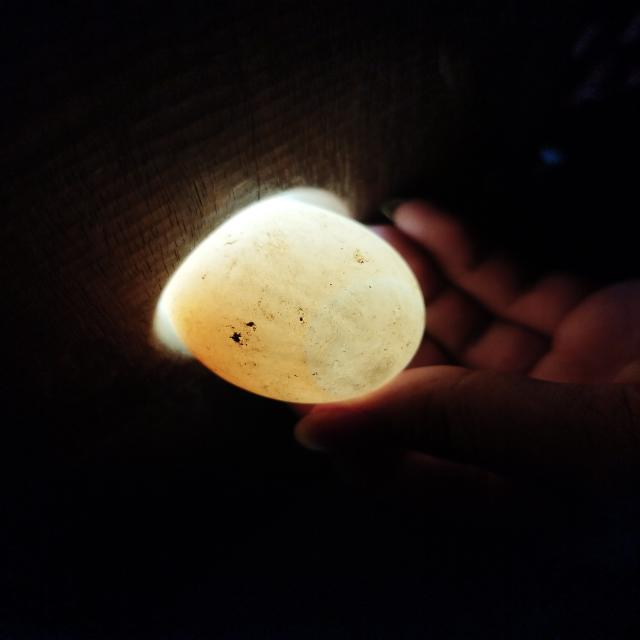Camara de Ar: (307, 277, 425, 398)
